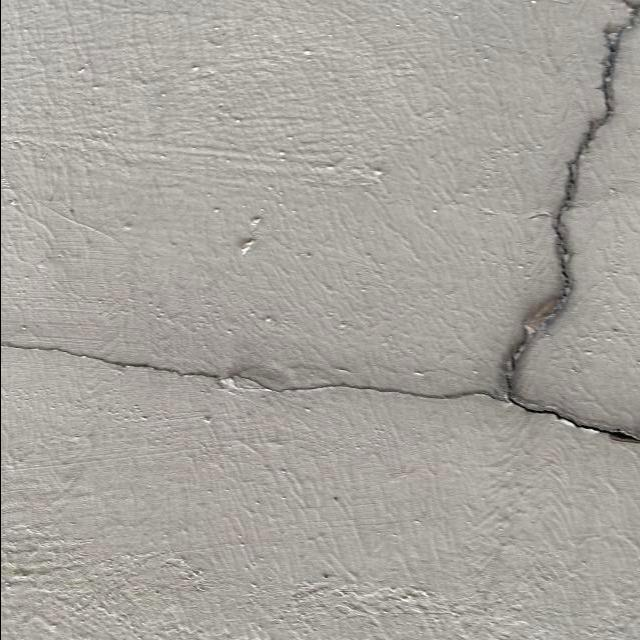SurfaceCrack: (0, 304, 639, 474), (475, 0, 640, 630)
